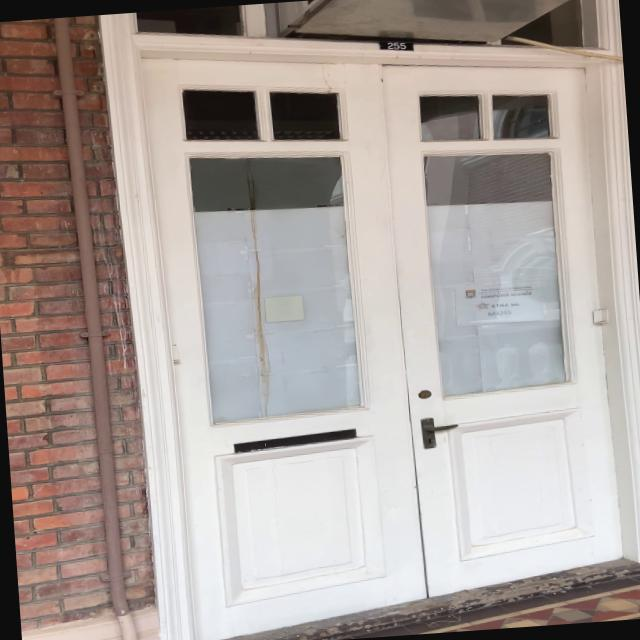room255: (374, 36, 416, 54)
